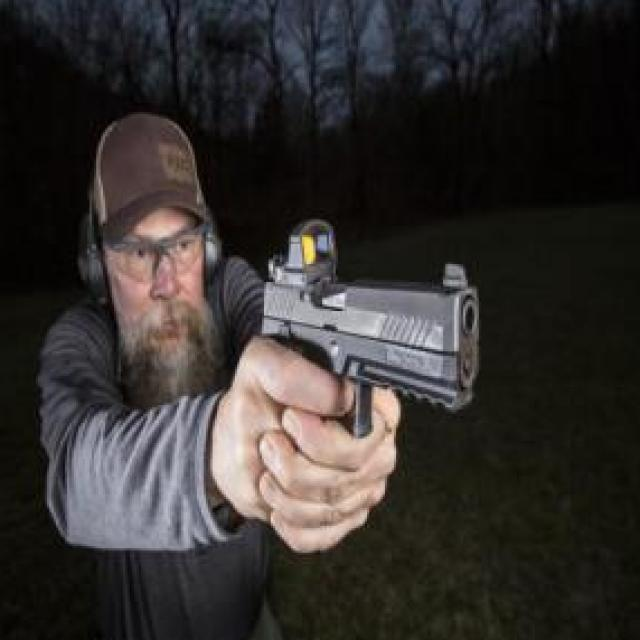pistol: (231, 204, 494, 451)
